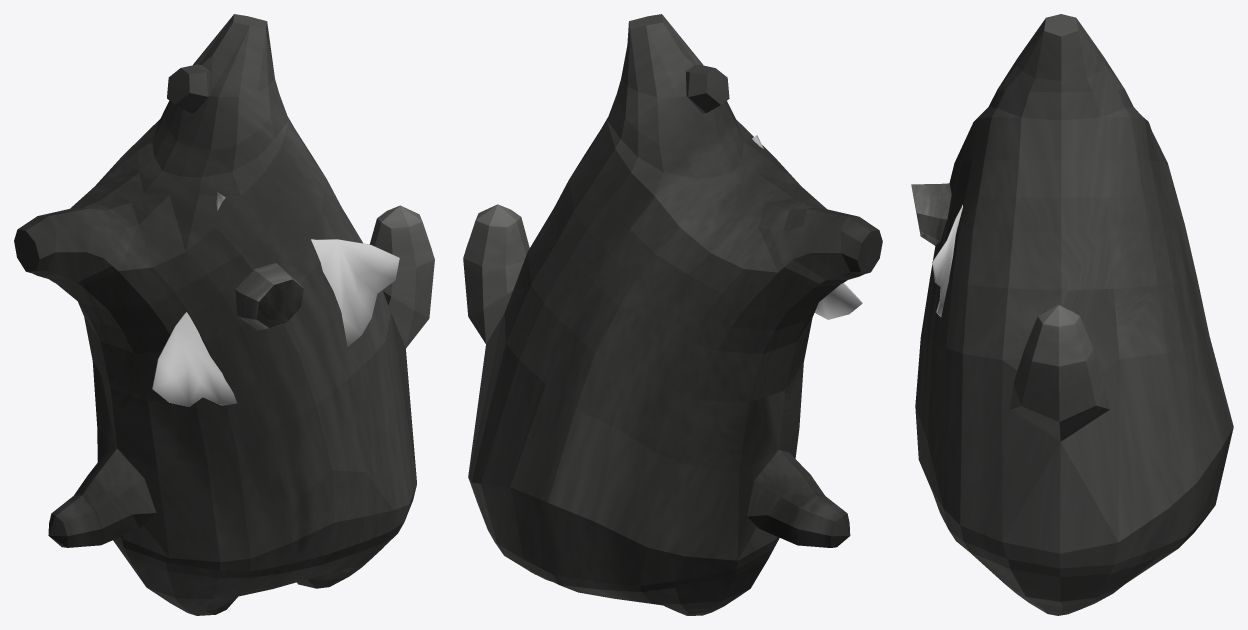
File: frame_0021.obj
The picture shows the model from 3 angles, left to right: view 1: azimuth 30°, elevation 25°; view 2: azimuth 150°, elevation 25°; view 3: azimuth 270°, elevation 25°; orthographic projection. The views are drawn at different scales.
Visible parts, largest first — view 1: korok, leaf, nose; view 2: korok, leaf; view 3: korok, nose, leaf.
Part boxes in pixels (left/top/right/bottom): korok: left=14, top=14, right=434, bottom=615; leaf: left=152, top=192, right=399, bottom=406; nose: left=235, top=263, right=303, bottom=330; korok: left=463, top=14, right=882, bottom=615; leaf: left=752, top=135, right=862, bottom=319; korok: left=915, top=14, right=1233, bottom=615; nose: left=911, top=183, right=951, bottom=245; leaf: left=932, top=204, right=962, bottom=316.
Size of the model in its own units: 1.64 by 2.26 by 1.18.
